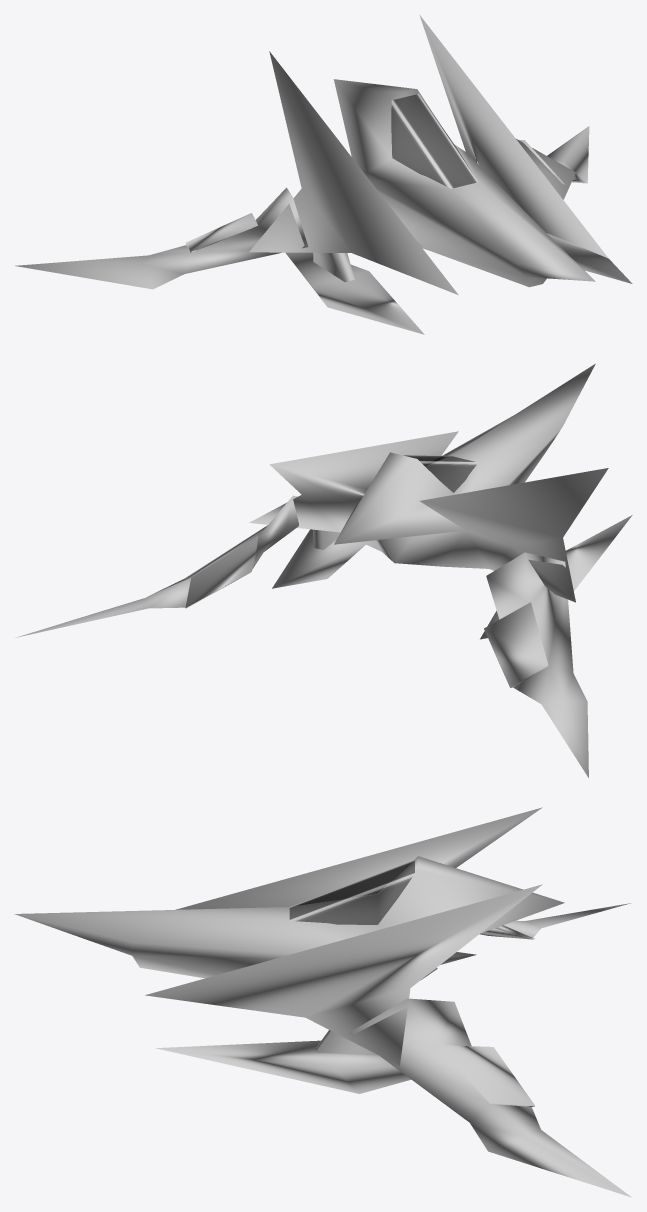
Rendered from arwingNew68.obj.
3 renders of one model, top to bottom at view 1: azimuth 30°, elevation 25°; view 2: azimuth 150°, elevation 25°; view 3: azimuth 270°, elevation 25°, orthographic. The views are drawn at different scales.
Parts seen in each view (by area): view 1: Arwing.002; view 2: Arwing.002; view 3: Arwing.002.
Boxes of the visible parts, left/top/right/bottom form: Arwing.002: left=15, top=14, right=632, bottom=334; Arwing.002: left=15, top=363, right=632, bottom=777; Arwing.002: left=14, top=807, right=631, bottom=1197.
Bounding box in the file's own units: 6.64 × 2.15 × 5.89.
